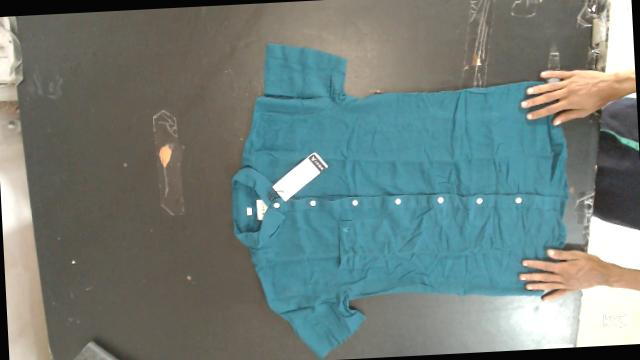new-garment: (232, 44, 568, 356)
